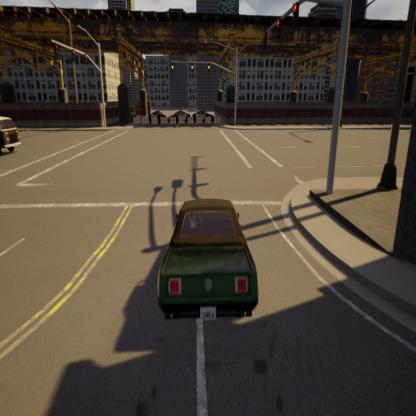Cars: (134, 177, 294, 357), (0, 90, 18, 194)
